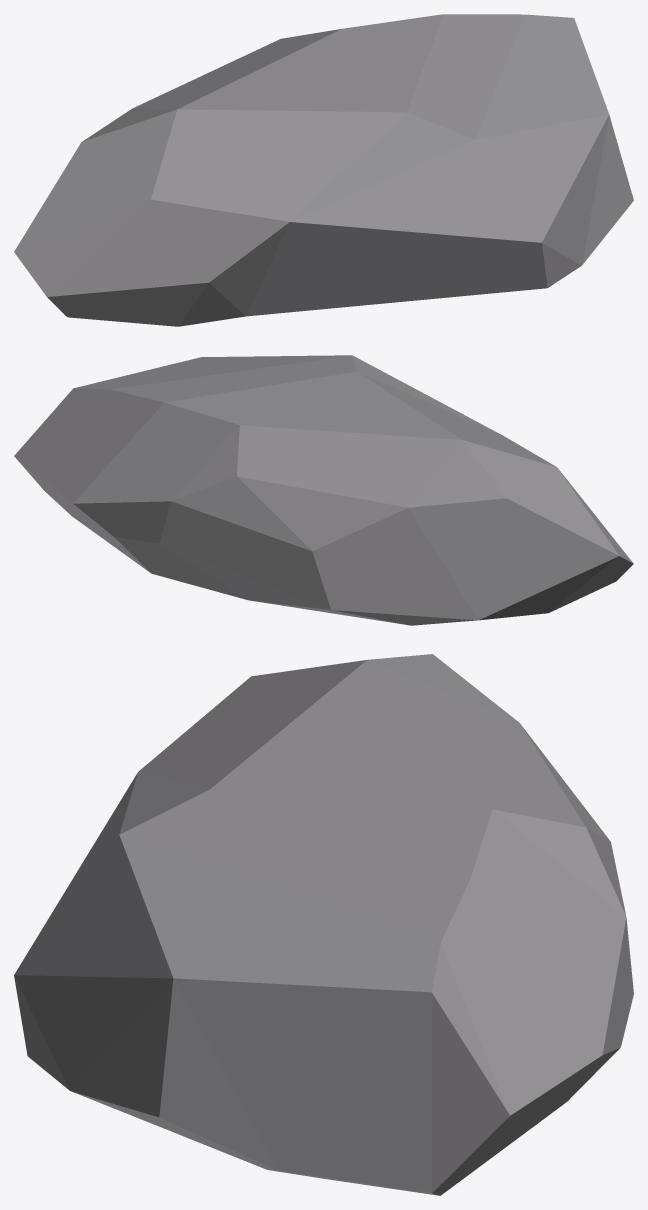
Rendered from Rock_Round_m_14.fbx.
3 views of the same model, one above another, from view 1: azimuth 30°, elevation 25°; view 2: azimuth 150°, elevation 25°; view 3: azimuth 270°, elevation 25° (orthographic). The views are drawn at different scales.
Parts seen in each view (by area): view 1: Rock_Round_m_14; view 2: Rock_Round_m_14; view 3: Rock_Round_m_14.
Boxes of the visible parts, box(x1,y1,x2,y2) form: Rock_Round_m_14: box(14, 14, 633, 326); Rock_Round_m_14: box(14, 355, 633, 625); Rock_Round_m_14: box(14, 654, 633, 1195).
Bounding box in the file's own units: 182 × 46.97 × 108.
